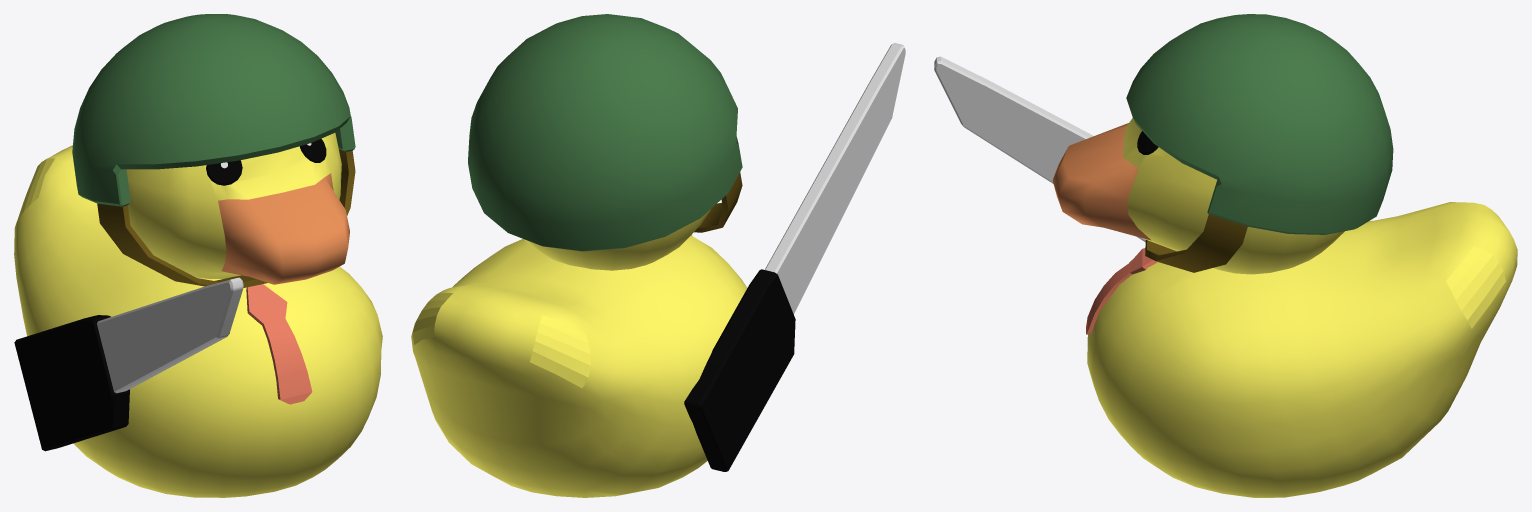
File: Sir_mil_helmet.fbx
3 views of the same model, side by side, from view 1: azimuth 30°, elevation 25°; view 2: azimuth 150°, elevation 25°; view 3: azimuth 270°, elevation 25° (orthographic). The views are drawn at different scales.
Parts seen in each view (by area): view 1: sir_mil_helmet, pSphere5, polySurface20, polySurface25, polySurface26, polySurface24, polySurface14, polySurface15; view 2: sir_mil_helmet, pSphere5, polySurface25, polySurface26; view 3: sir_mil_helmet, pSphere5, polySurface26, polySurface20, polySurface24.
Part boxes in pixels (x1=…): sir_mil_helmet: x1=14, y1=133, x2=382, y2=497; pSphere5: x1=72, y1=14, x2=355, y2=287; polySurface20: x1=218, y1=173, x2=349, y2=284; polySurface25: x1=14, y1=315, x2=129, y2=451; polySurface26: x1=97, y1=277, x2=243, y2=393; polySurface24: x1=246, y1=284, x2=312, y2=404; polySurface14: x1=206, y1=160, x2=242, y2=185; polySurface15: x1=299, y1=138, x2=326, y2=162; sir_mil_helmet: x1=411, y1=209, x2=747, y2=497; pSphere5: x1=468, y1=14, x2=742, y2=251; polySurface25: x1=684, y1=269, x2=795, y2=471; polySurface26: x1=765, y1=43, x2=905, y2=314; sir_mil_helmet: x1=1087, y1=118, x2=1517, y2=497; pSphere5: x1=1126, y1=14, x2=1393, y2=272; polySurface26: x1=934, y1=56, x2=1145, y2=242; polySurface20: x1=1052, y1=123, x2=1151, y2=240; polySurface24: x1=1086, y1=248, x2=1157, y2=334.
Bounding box in the file's own units: 1.38 × 1.99 × 2.42.
